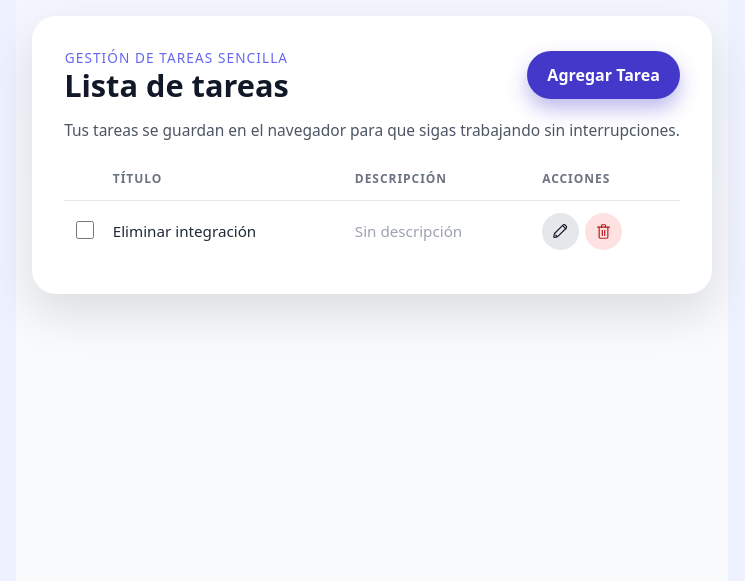
Flujo completo de tareas (integración) › elimina una tarea existente desde la tabla
The image size is (745, 581).
Click the 2nd button named "eliminar" at [604, 231], box x1=585 y1=213 x2=622 y2=250
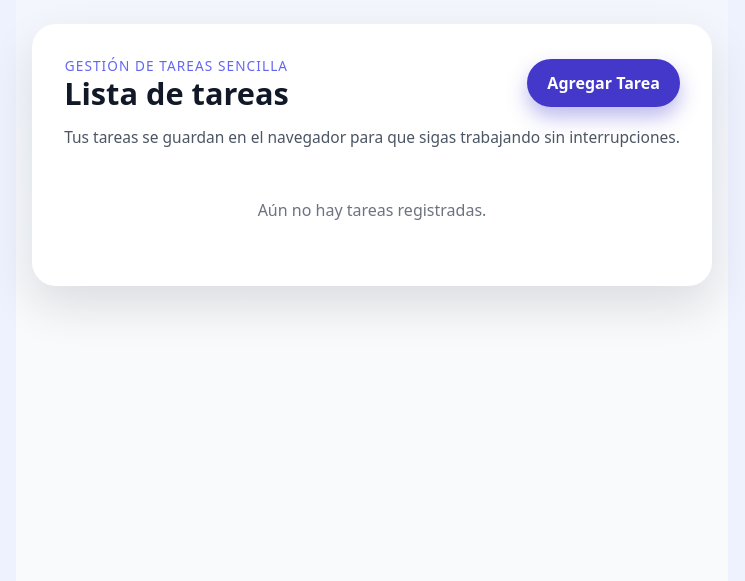
Expected: the text "Eliminar integración" is gone
